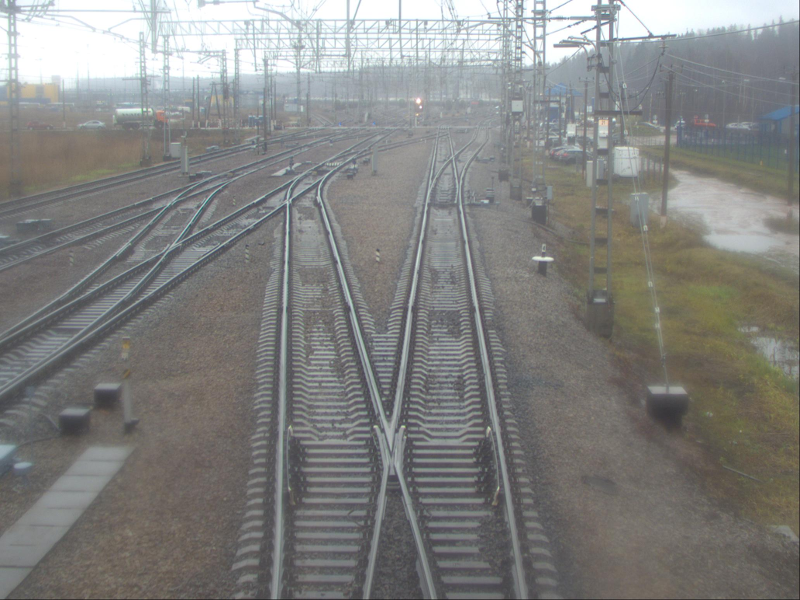railway_arrows: (421, 154, 467, 210)
